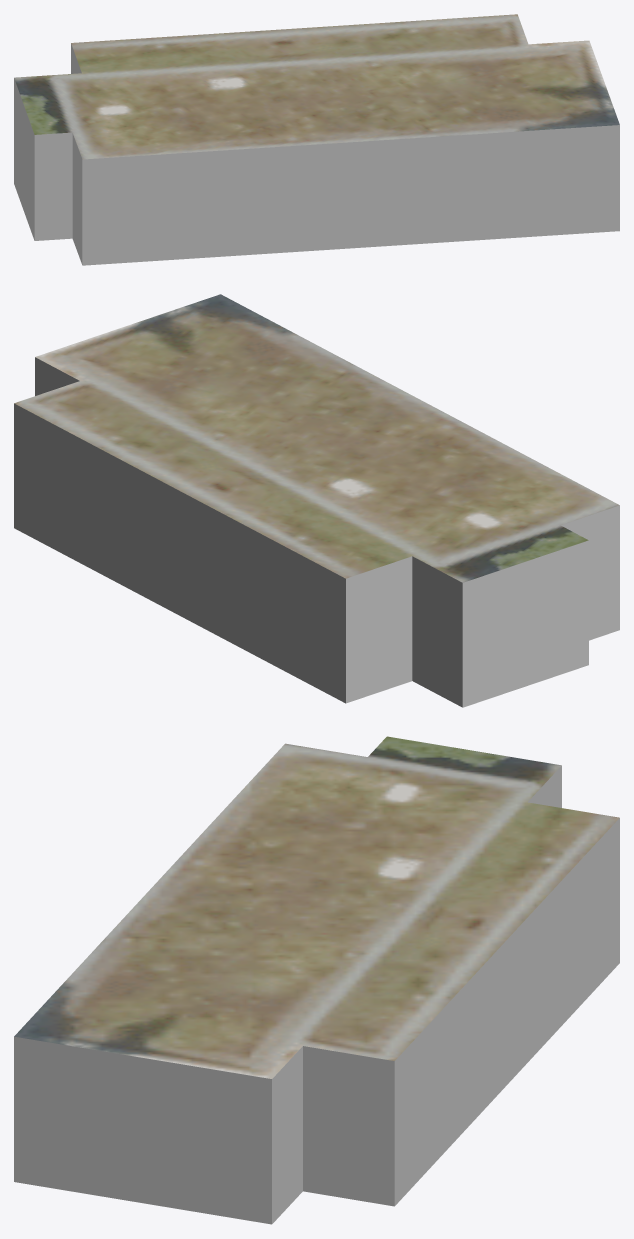
The model's file is DEBW_001000hrFVr.gltf.
The picture shows the model from 3 angles, top to bottom: view 1: azimuth 30°, elevation 25°; view 2: azimuth 150°, elevation 25°; view 3: azimuth 270°, elevation 25°; orthographic projection. The views are drawn at different scales.
Visible parts, largest first — view 1: Z_UP; view 2: Z_UP; view 3: Z_UP.
Part boxes in pixels (left/top/right/bottom): Z_UP: left=14, top=14, right=619, bottom=265; Z_UP: left=14, top=294, right=619, bottom=707; Z_UP: left=14, top=736, right=619, bottom=1224.
Bounding box in the file's own units: 37.3 × 7.38 × 27.87.
2 materials, 1 textured.
